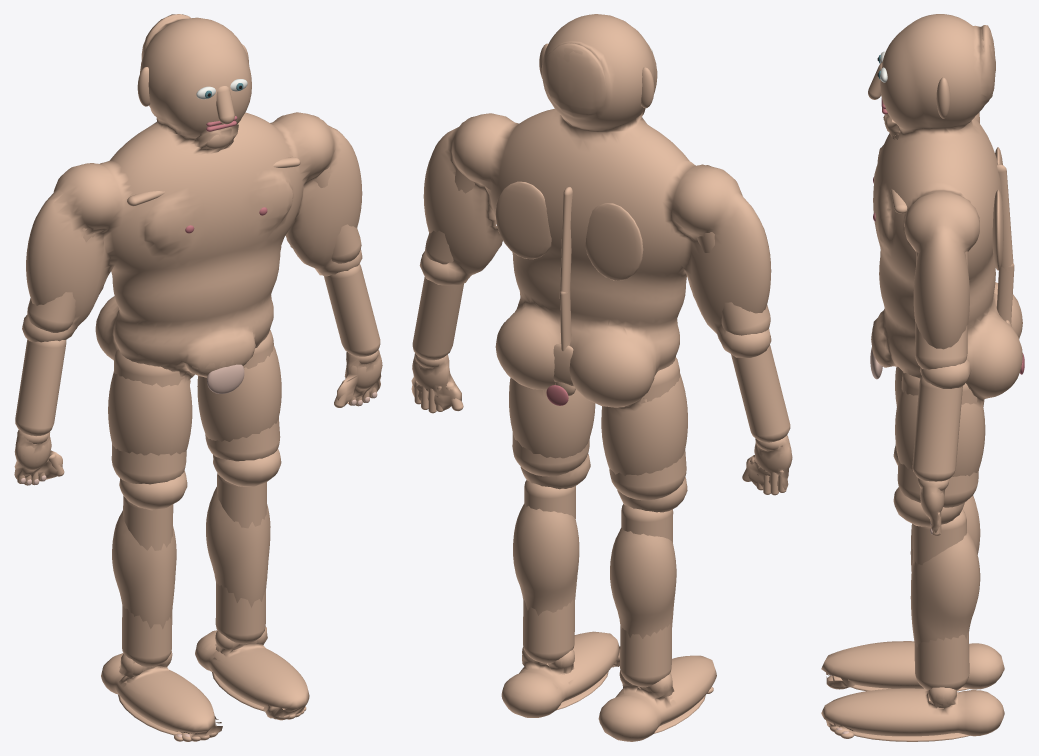
The model's file is body-kind-divers-v2.glb.
The picture shows the model from 3 angles, left to right: view 1: azimuth 30°, elevation 25°; view 2: azimuth 150°, elevation 25°; view 3: azimuth 270°, elevation 25°; orthographic projection. The views are drawn at different scales.
Visible parts, largest first — view 1: zone__visual-surface-body-kind-divers, zone__surface-lower-leg-left, zone__surface-lower-leg-right, zone__surface-forearm-left, zone__surface-thigh-left, zone__surface-forearm-right, zone__surface-thigh-right, zone__surface-upper-arm-left, zone__surface-upper-arm-right, zone__surface-genital-observation-deferred; view 2: zone__visual-surface-body-kind-divers, zone__surface-lower-leg-left, zone__surface-lower-leg-right, zone__surface-forearm-left, zone__surface-scapula-left, zone__surface-scapula-right, zone__surface-forearm-right, zone__surface-thigh-left, zone__surface-upper-arm-left, zone__surface-thigh-right, zone__surface-thoracic-spine, zone__surface-upper-arm-right (+2 smaller); view 3: zone__visual-surface-body-kind-divers, zone__surface-lower-leg-right, zone__surface-forearm-right, zone__surface-thigh-right, zone__surface-upper-arm-right, zone__surface-thoracic-spine, zone__surface-lumbar-spine, zone__surface-scapula-right, zone__surface-sole-right, zone__surface-ear-right.
Boxes of the visible parts, left/top/right/bottom form: zone__visual-surface-body-kind-divers: left=14, top=14, right=382, bottom=736; zone__surface-lower-leg-left: left=122, top=495, right=173, bottom=667; zone__surface-lower-leg-right: left=215, top=473, right=266, bottom=644; zone__surface-forearm-left: left=15, top=339, right=66, bottom=436; zone__surface-thigh-left: left=111, top=349, right=186, bottom=484; zone__surface-forearm-right: left=324, top=264, right=380, bottom=356; zone__surface-thigh-right: left=205, top=330, right=280, bottom=461; zone__surface-upper-arm-left: left=27, top=228, right=95, bottom=332; zone__surface-upper-arm-right: left=314, top=167, right=361, bottom=263; zone__surface-genital-observation-deferred: left=207, top=364, right=244, bottom=393; zone__visual-surface-body-kind-divers: left=411, top=14, right=792, bottom=741; zone__surface-lower-leg-left: left=620, top=504, right=673, bottom=687; zone__surface-lower-leg-right: left=523, top=480, right=575, bottom=663; zone__surface-forearm-left: left=731, top=345, right=790, bottom=442; zone__surface-scapula-left: left=585, top=203, right=643, bottom=280; zone__surface-scapula-right: left=495, top=181, right=551, bottom=259; zone__surface-forearm-right: left=412, top=277, right=463, bottom=360; zone__surface-thigh-left: left=609, top=357, right=686, bottom=500; zone__surface-upper-arm-left: left=696, top=232, right=770, bottom=335; zone__surface-thigh-right: left=512, top=433, right=589, bottom=476; zone__surface-thoracic-spine: left=560, top=186, right=572, bottom=297; zone__surface-upper-arm-right: left=425, top=168, right=474, bottom=264; zone__visual-surface-body-kind-divers: left=821, top=14, right=1022, bottom=736; zone__surface-lower-leg-right: left=912, top=509, right=969, bottom=690; zone__surface-forearm-right: left=912, top=376, right=962, bottom=481; zone__surface-thigh-right: left=897, top=373, right=978, bottom=507; zone__surface-upper-arm-right: left=915, top=251, right=968, bottom=369; zone__surface-thoracic-spine: left=997, top=164, right=1013, bottom=271; zone__surface-lumbar-spine: left=996, top=263, right=1014, bottom=323; zone__surface-scapula-right: left=992, top=189, right=1003, bottom=270; zone__surface-sole-right: left=850, top=730, right=969, bottom=741; zone__surface-ear-right: left=936, top=77, right=950, bottom=118.
Bounding box in the file's own units: 0.8091 × 1.42 × 0.3803.
